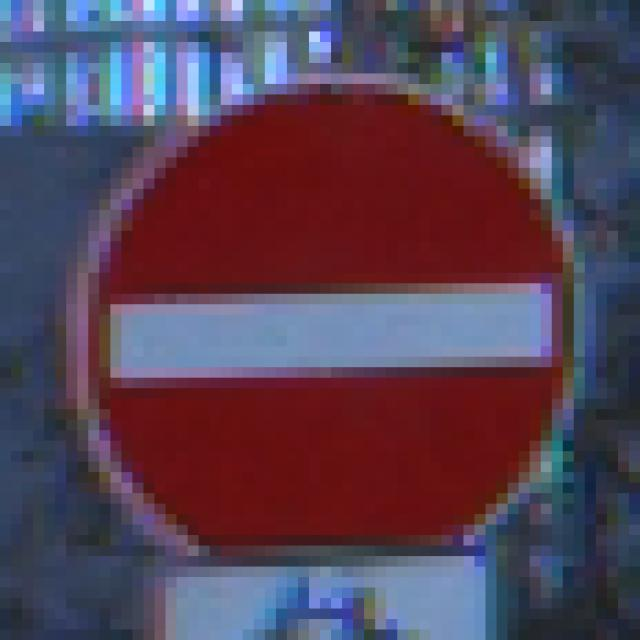No Entry: (56, 64, 586, 588)
